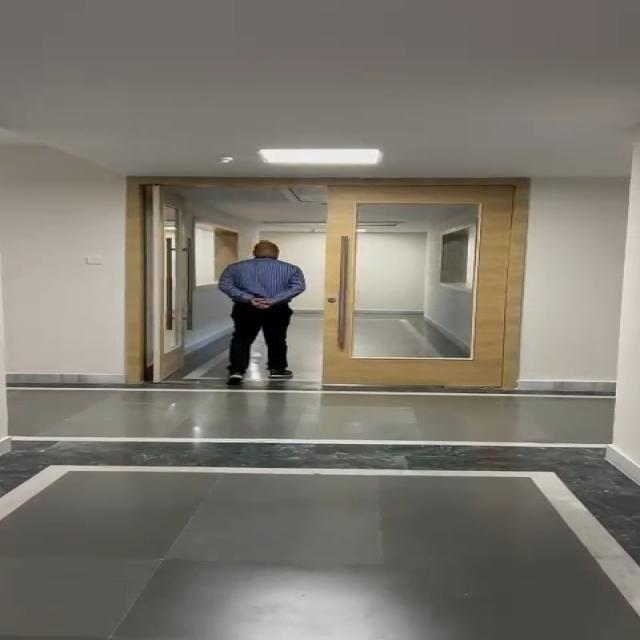door: (318, 176, 526, 387)
floor: (0, 457, 640, 640), (0, 385, 640, 468)
wall: (6, 138, 136, 384), (536, 166, 640, 416)
